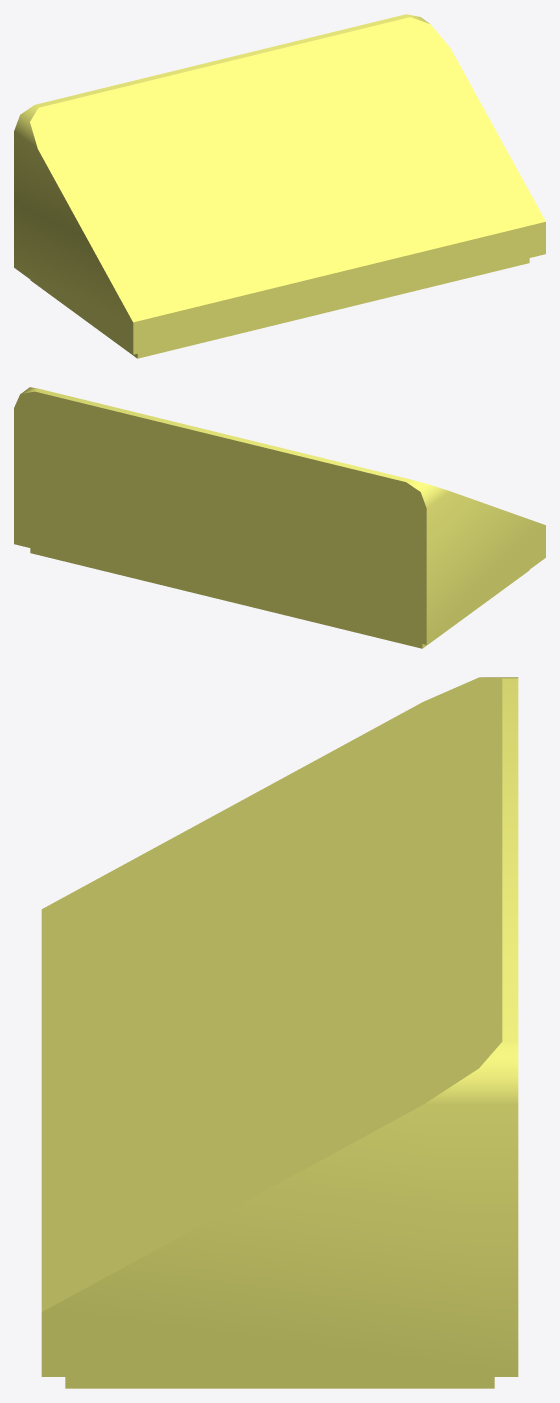
3 views of the same model, one above another, from view 1: azimuth 30°, elevation 25°; view 2: azimuth 150°, elevation 25°; view 3: azimuth 270°, elevation 25° (orthographic). The views are drawn at different scales.
Parts seen in each view (by area): view 1: 85984.dat; view 2: 85984.dat; view 3: 85984.dat.
Part boxes in pixels (box(x1,y1,x2,y2)): 85984.dat: box(14, 14, 545, 358); 85984.dat: box(14, 387, 545, 648); 85984.dat: box(41, 677, 518, 1388).
Bounding box in the file's own units: 0.016 × 0.00624 × 0.008.
